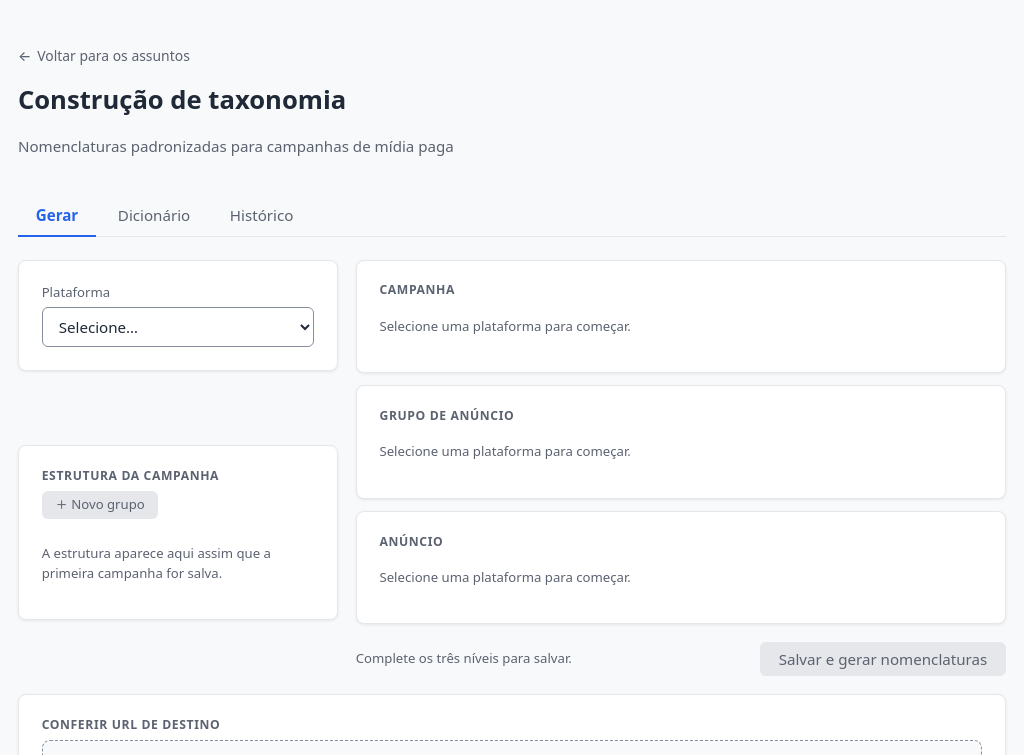
Scenario: cascata › abre a campanha e mantém grupo e anúncio bloqueados
Select "Meta (FB)" in the dropdown labelled "Plataforma" at (178, 327), box [42, 307, 314, 347]
(page scrolled)
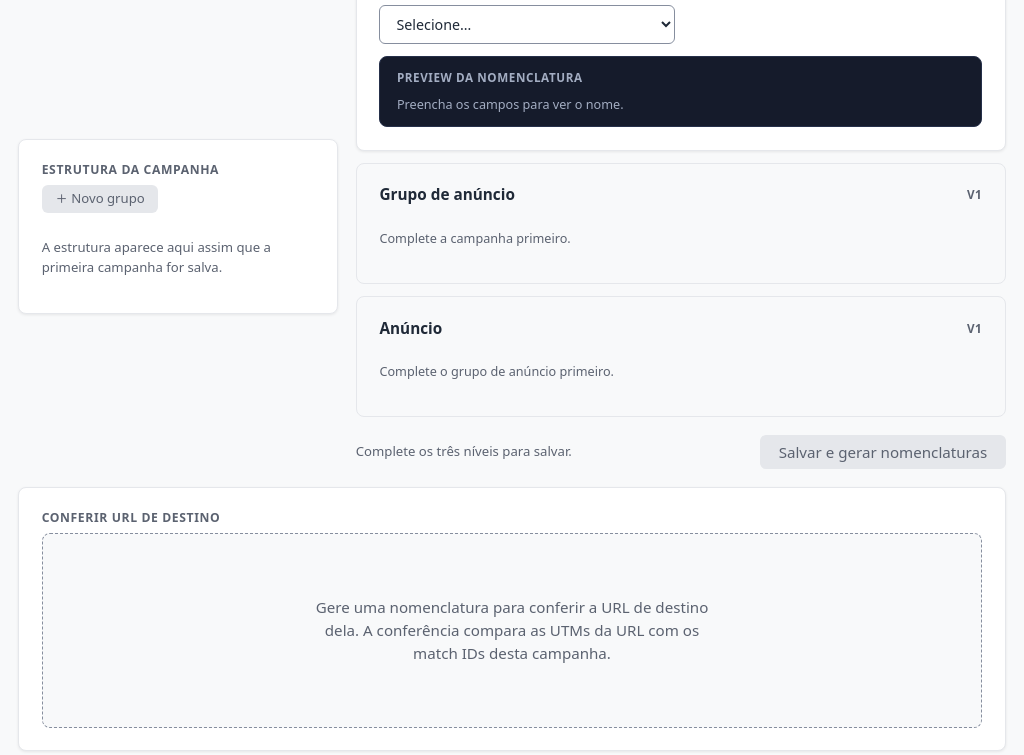
expect the dropdown labelled "Objetivo" is shown: met, box [380, 5, 675, 44]
expect the text "Complete a campanha primeiro." is shown: met, box [380, 229, 571, 247]
expect the text "Complete o grupo de anúncio primeiro." is shown: met, box [380, 362, 614, 380]
